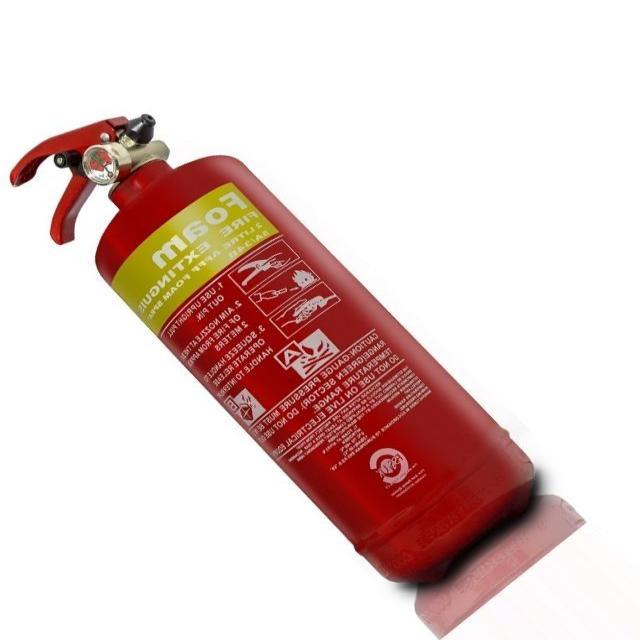fire_extinguisher: (0, 102, 547, 590)
